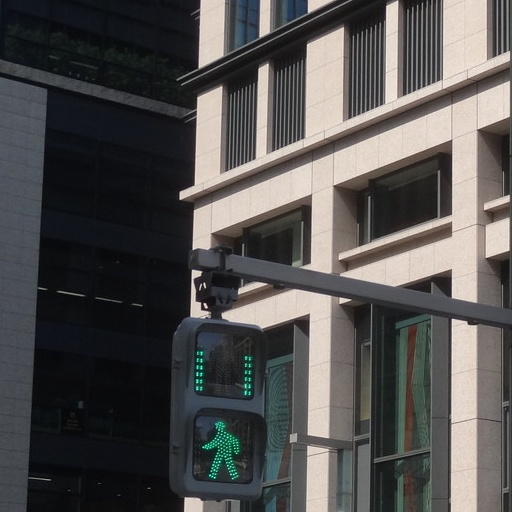Pedestrian_Signal_Blue: (177, 311, 265, 493)
